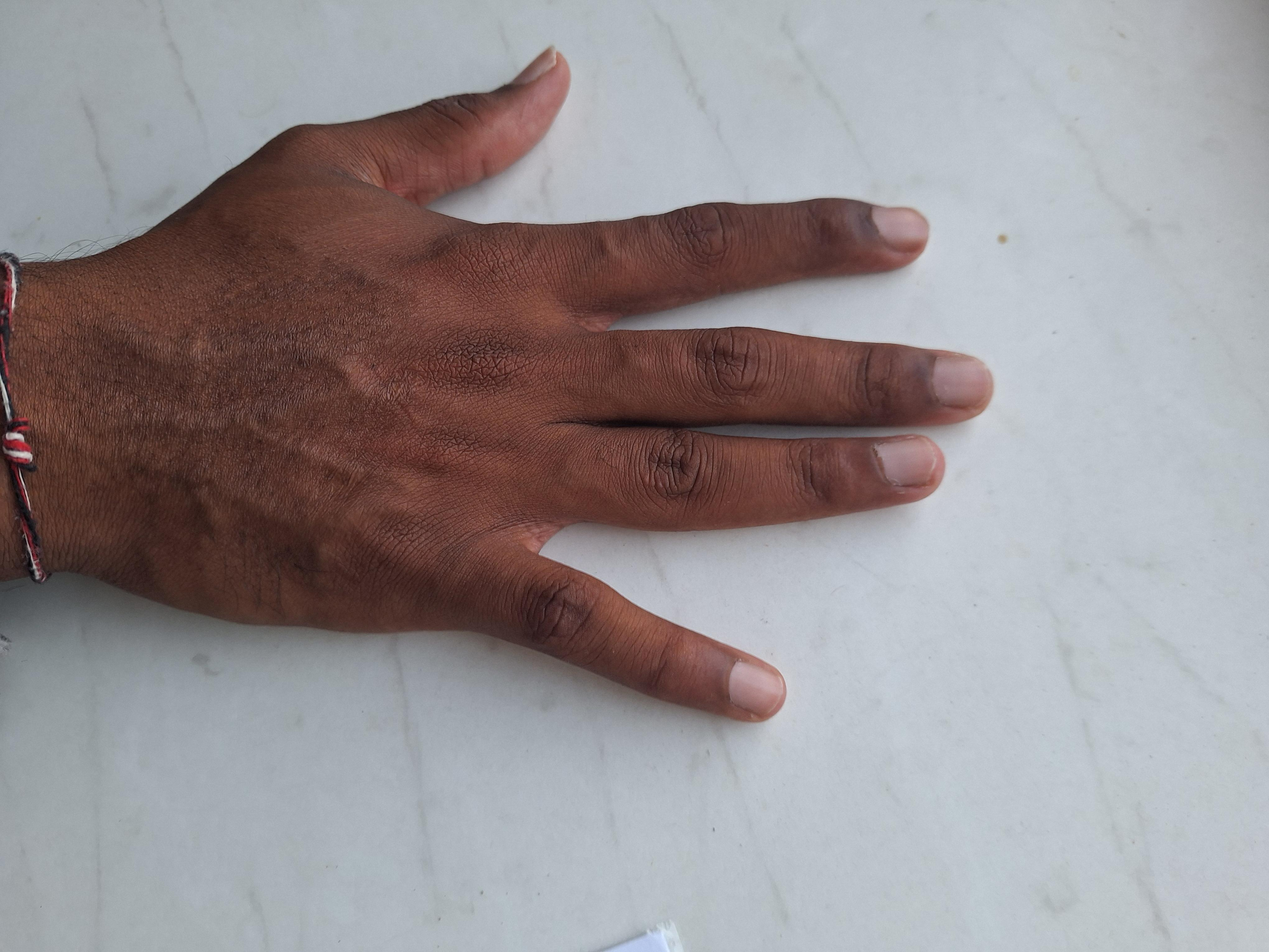Fingernail: (877, 437, 937, 486), (934, 355, 989, 408), (728, 663, 784, 714), (872, 207, 929, 253), (507, 46, 556, 84)
